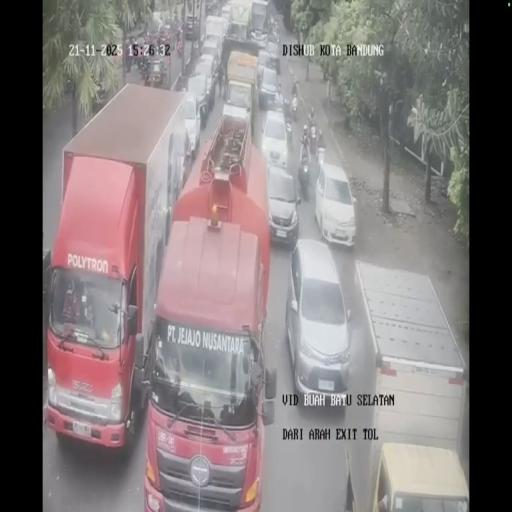car: (286, 240, 350, 402), (315, 161, 357, 249), (266, 164, 300, 248), (260, 110, 289, 172), (185, 72, 213, 131), (220, 101, 251, 149), (257, 64, 279, 110), (200, 36, 221, 70), (263, 38, 281, 69), (249, 28, 268, 50), (160, 21, 176, 47), (220, 2, 231, 31)
motorcycle: (139, 56, 151, 83), (308, 126, 318, 158), (300, 137, 310, 167), (283, 92, 291, 119), (291, 97, 298, 121)
truck: (46, 83, 192, 452), (184, 14, 200, 41)
